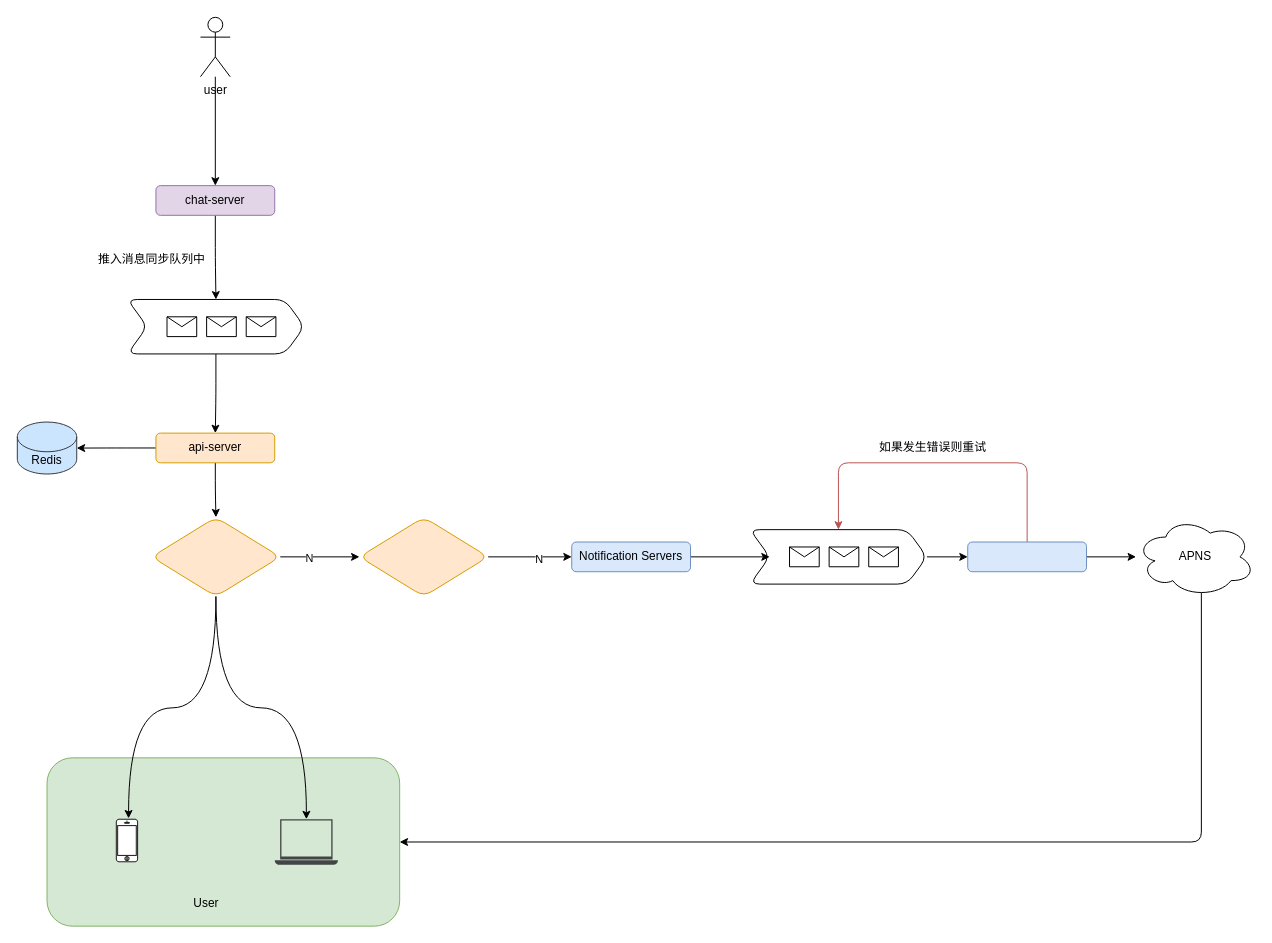
The diagram is 1272 pixels wide and 943 high, and some of its shapes have lost their labels. The centre of each missing label's shape, as x and y in pixels:
Workers: the point at 1027,556
是否在线: the point at 215,556
是否屏蔽群聊: the point at 423,556
